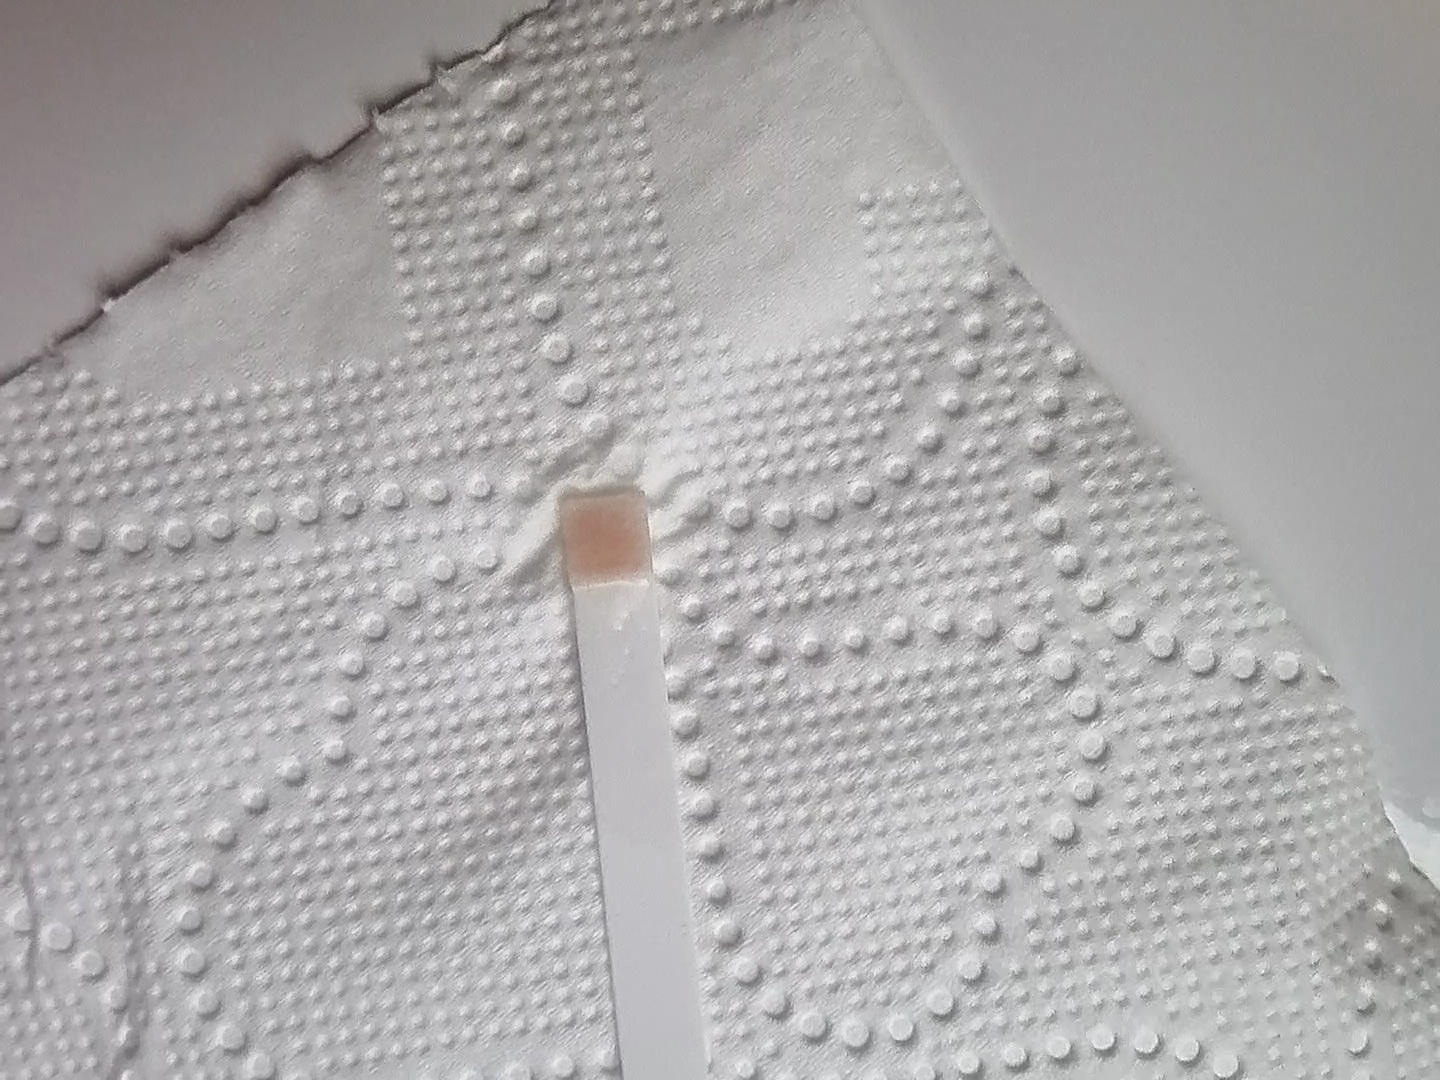keto-tip: (557, 489, 661, 593)
